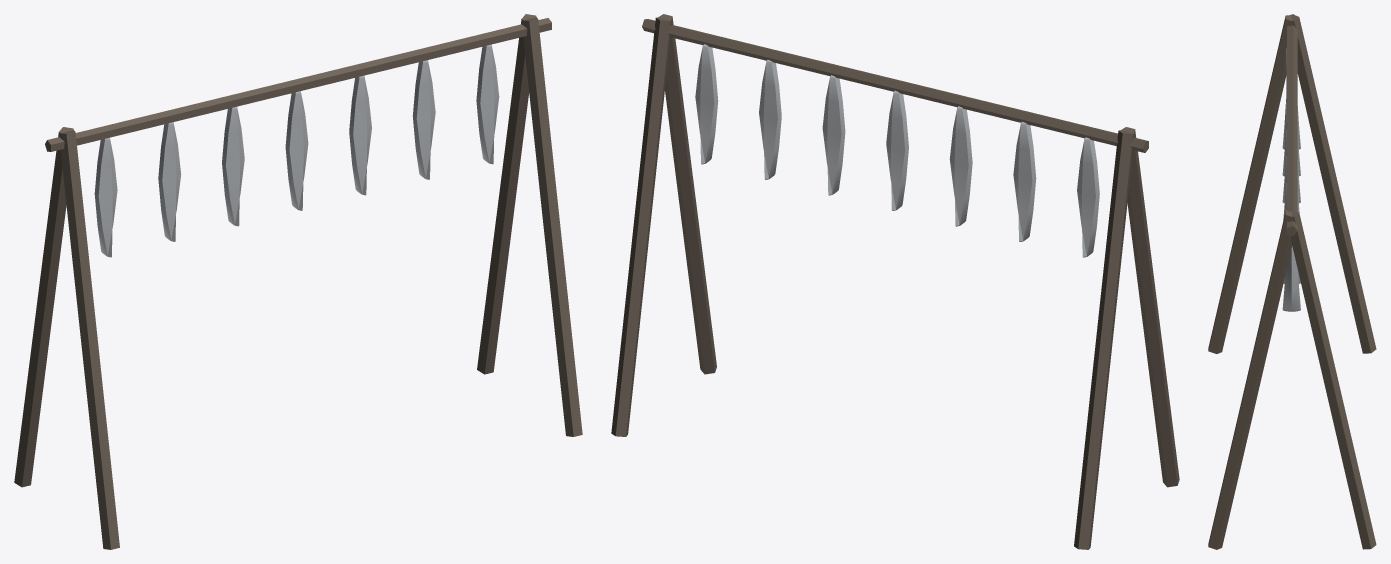
Rendered from fish_rack.gltf.
3 renders of one model, left to right at view 1: azimuth 30°, elevation 25°; view 2: azimuth 150°, elevation 25°; view 3: azimuth 270°, elevation 25°, orthographic. The views are drawn at different scales.
Visible parts, largest first — view 1: Body; view 2: Body; view 3: Body.
Part boxes in pixels (x1,y1,x2,y2): Body: (14, 14, 582, 549); Body: (611, 14, 1179, 549); Body: (1208, 14, 1376, 549).
Bounding box in the file's own units: 2.6 × 1.92 × 0.8708.
